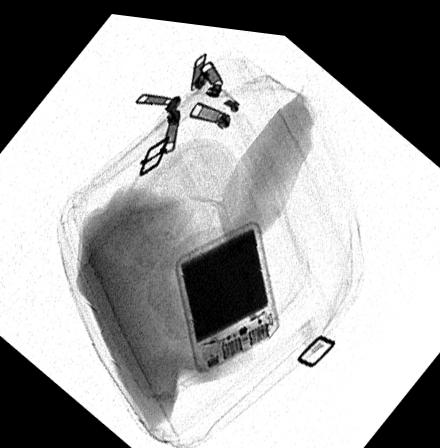Powerbank: (172, 213, 281, 368)
